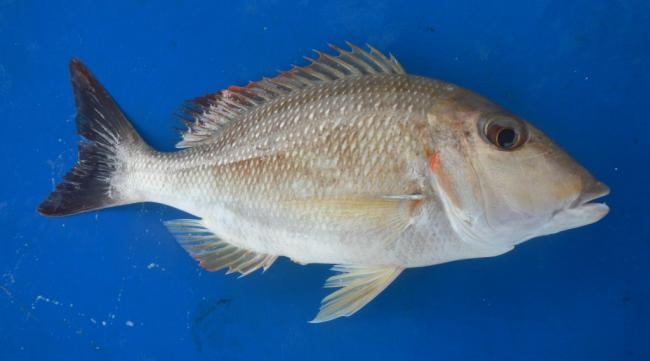fish: (38, 40, 612, 324)
